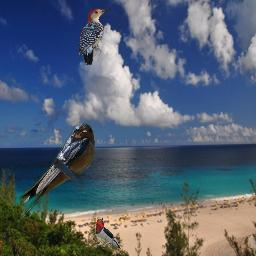Swallow: (17, 123, 95, 222)
Woodpecker: (78, 8, 111, 65), (94, 216, 123, 253)
